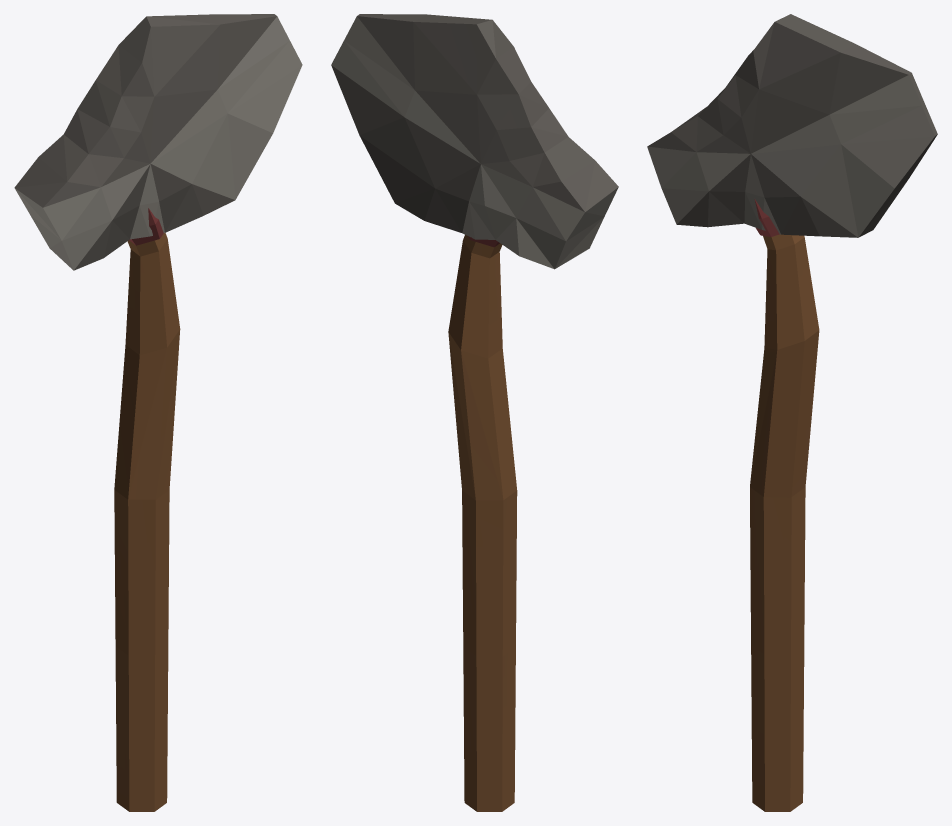
File: wpn_axe_01_len14.fbx
3 views of the same model, side by side, from view 1: azimuth 30°, elevation 25°; view 2: azimuth 150°, elevation 25°; view 3: azimuth 330°, elevation 25° (orthographic).
Parts seen in each view (by area): view 1: wpn_axe_01; view 2: wpn_axe_01; view 3: wpn_axe_01.
Boxes of the visible parts, x1=… form: wpn_axe_01: x1=14, y1=14, x2=302, y2=811; wpn_axe_01: x1=331, y1=14, x2=618, y2=811; wpn_axe_01: x1=647, y1=14, x2=937, y2=811.
Bounding box in the file's own units: 0.4252 × 0.1039 × 1.16.
Materials: 1 (1 with a texture image).
